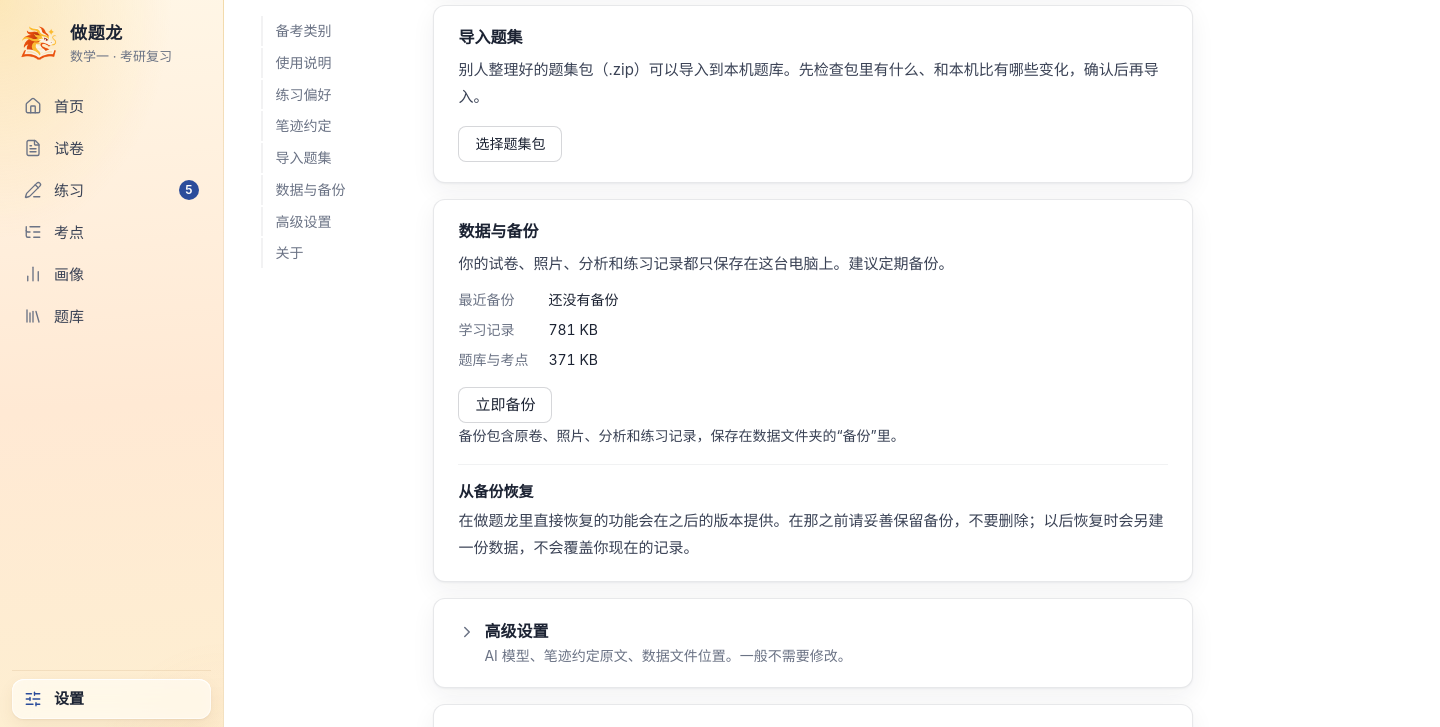
shows other failures clearly
(page scrolled)
Step 1. Click the button "立即备份" → (505, 404), box [458,386,552,422]
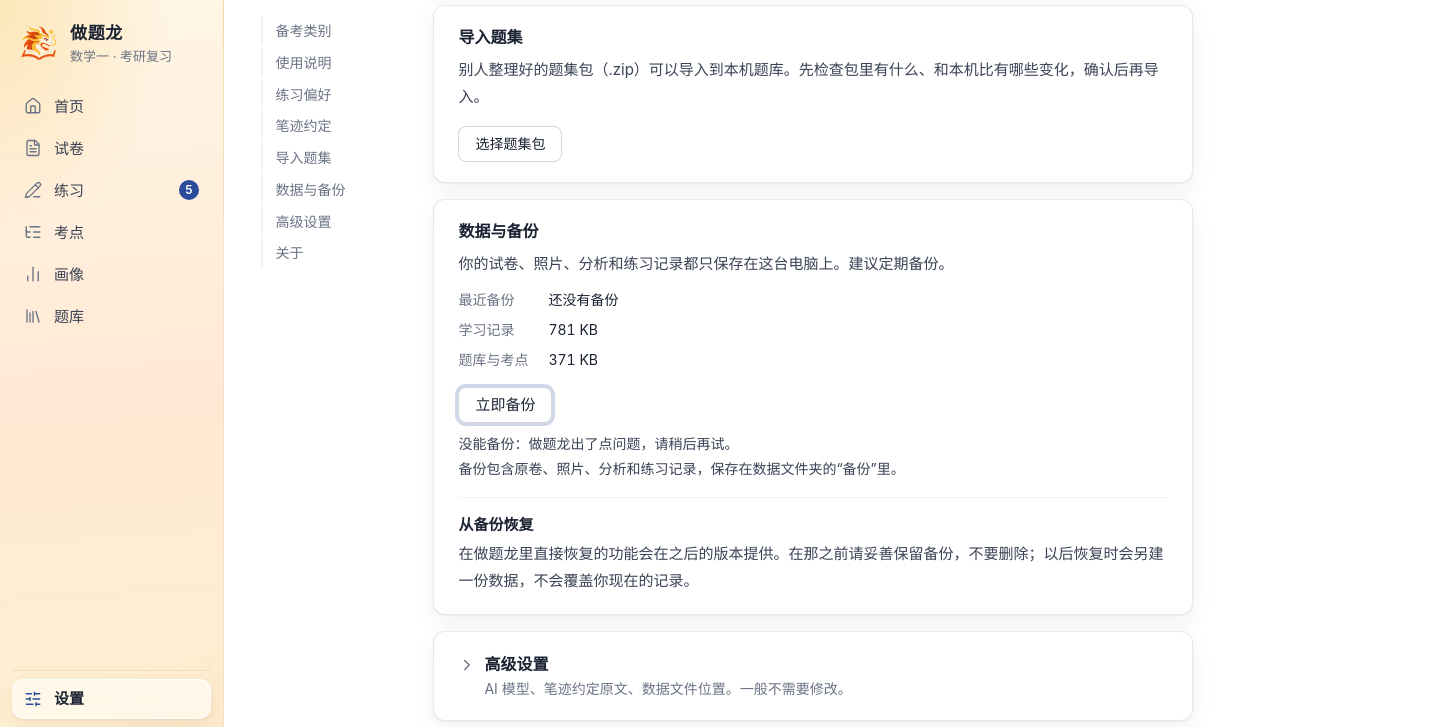
Expected: the message shows "没能备份", [458,434,528,452]
